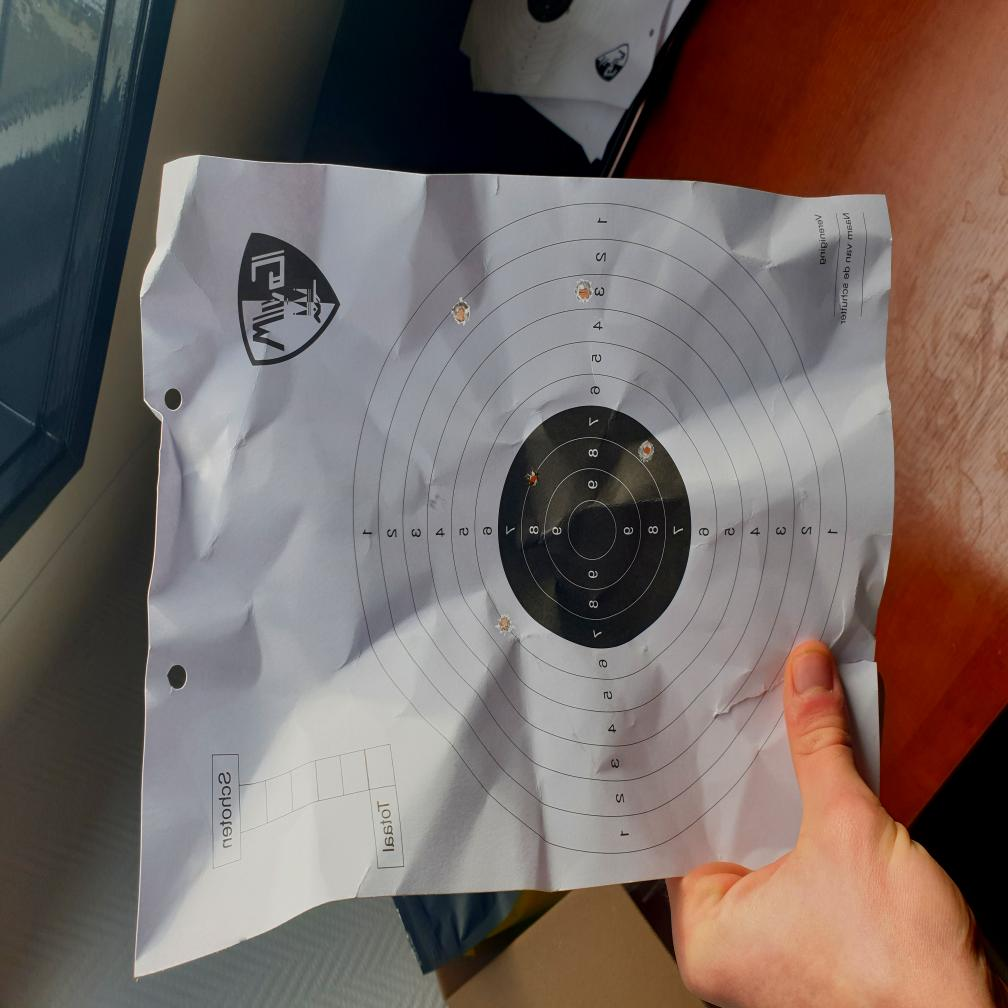2: (451, 297, 470, 326)
3: (574, 278, 593, 304)
6: (496, 614, 516, 634)
7: (638, 440, 654, 463)
8: (524, 466, 541, 488)
Target: (351, 200, 848, 864)
black_contour: (497, 406, 691, 648)
